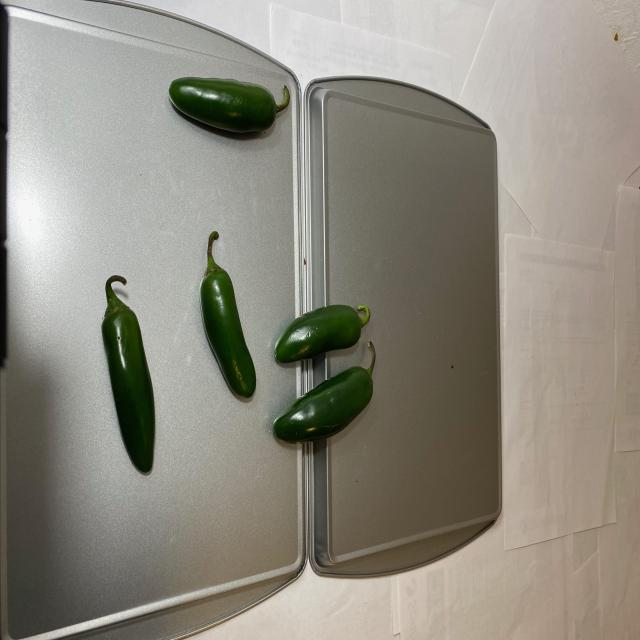chilli: (99, 74, 377, 459)
